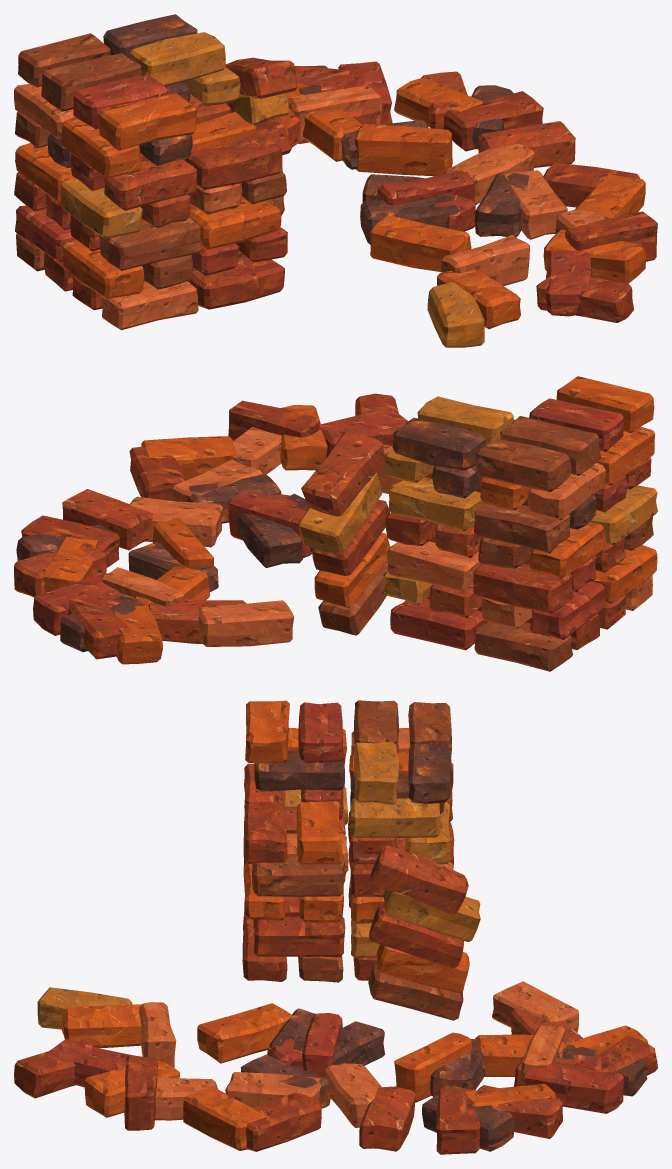
Rendered from brick_stack_toppled__clay_brick.glb.
3 renders of one model, top to bottom at view 1: azimuth 30°, elevation 25°; view 2: azimuth 150°, elevation 25°; view 3: azimuth 270°, elevation 25°, orthographic.
Parts seen in each view (by area): view 1: model; view 2: model; view 3: model.
Boxes of the visible parts, x1,y1,x2,y2 form: model: (14,14,657,347); model: (14,376,657,671); model: (14,700,657,1154).
Bounding box in the file's own units: 1.98 × 0.7669 × 2.09.
Materials: 8 (8 with a texture image).
